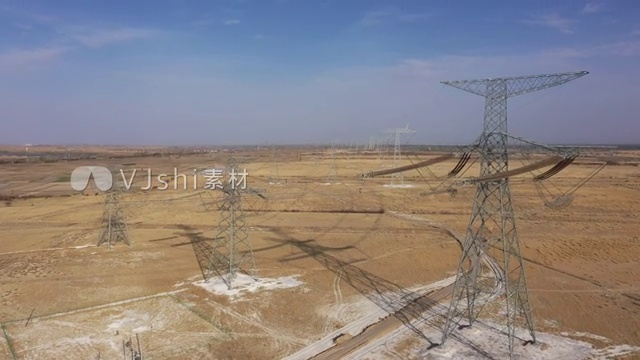tower_body: (428, 63, 599, 356)
tower_foot: (442, 279, 540, 353)
tower_head: (433, 68, 592, 99)
